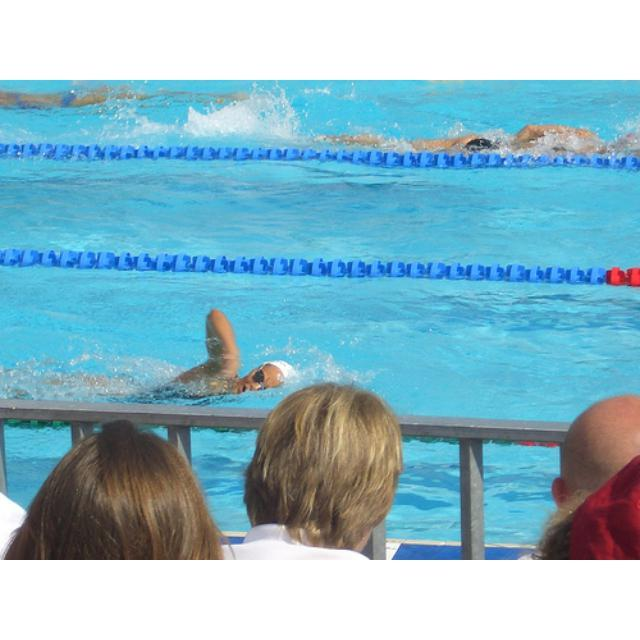human: (132, 310, 298, 404)
